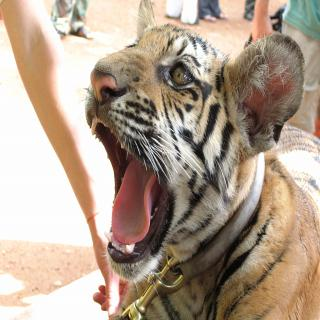Tiger: (76, 0, 320, 320)
